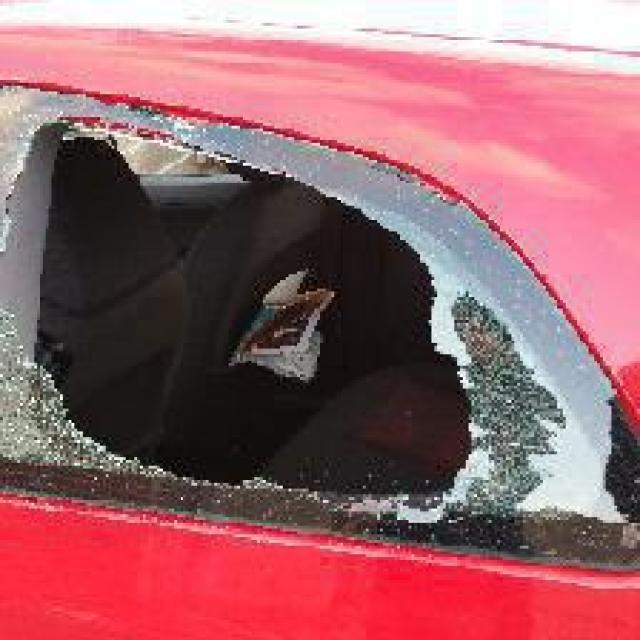damaged: (0, 109, 529, 560)
